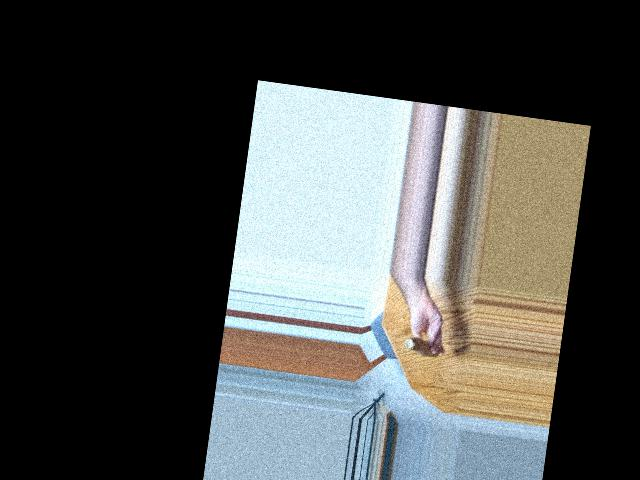sweet_potato: (398, 326, 444, 360)
